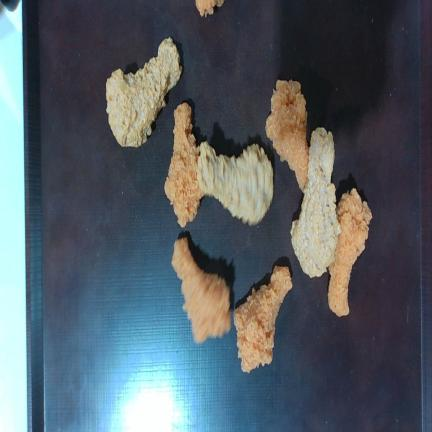chicken: (106, 37, 182, 147), (291, 128, 341, 277), (197, 142, 273, 225), (172, 238, 230, 343), (235, 266, 292, 372), (328, 188, 372, 316), (164, 103, 203, 227), (266, 80, 309, 191)
